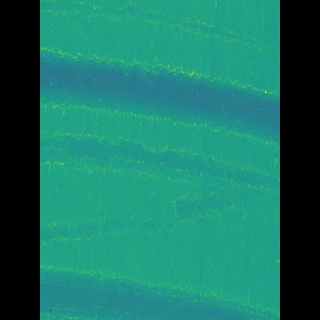Loch: (70, 134, 250, 247), (69, 44, 249, 149), (69, 266, 251, 320), (70, 0, 242, 55)
